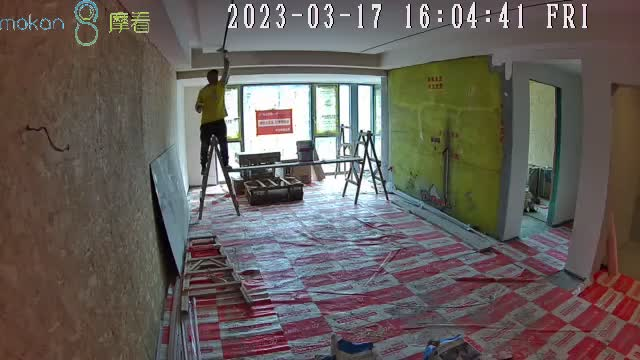people: (196, 53, 233, 174)
window: (208, 83, 378, 177)
